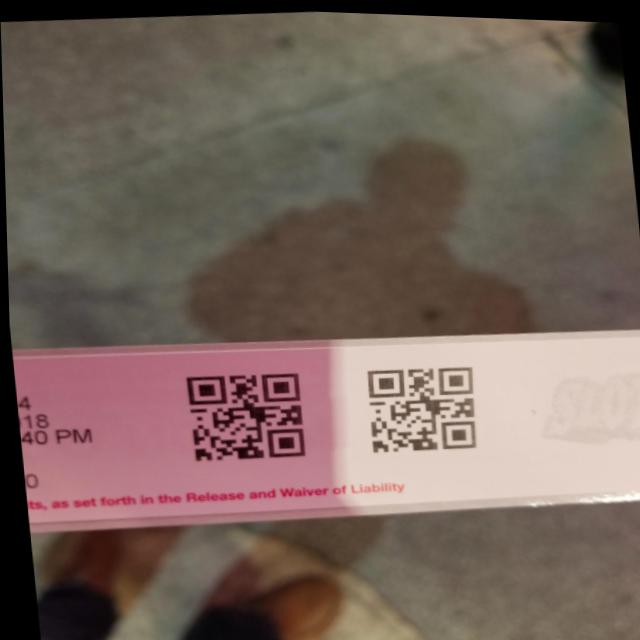QR_CODE: (164, 353, 318, 477), (341, 347, 487, 467)
